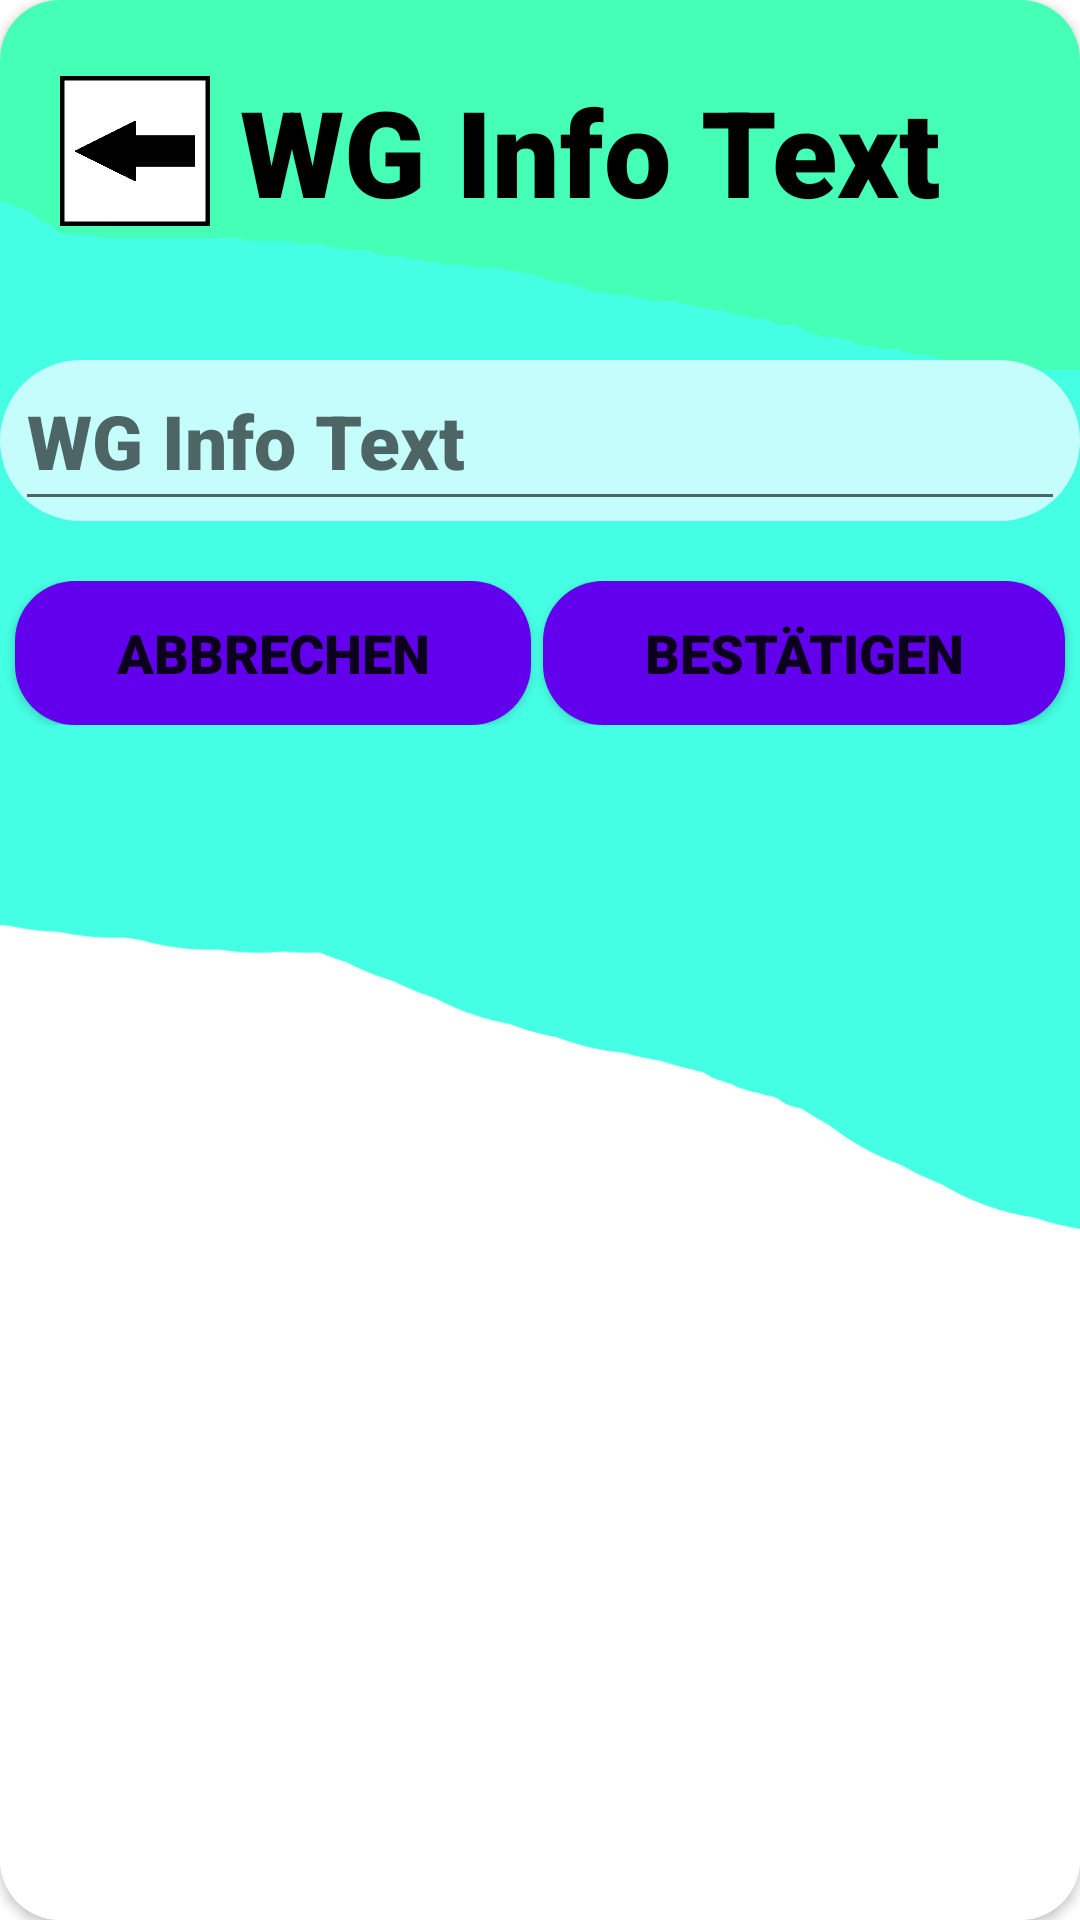

Named icons in this screenshot (1080w x 1920h) and their centers, [x,y]:
zurueck: [135,151]
